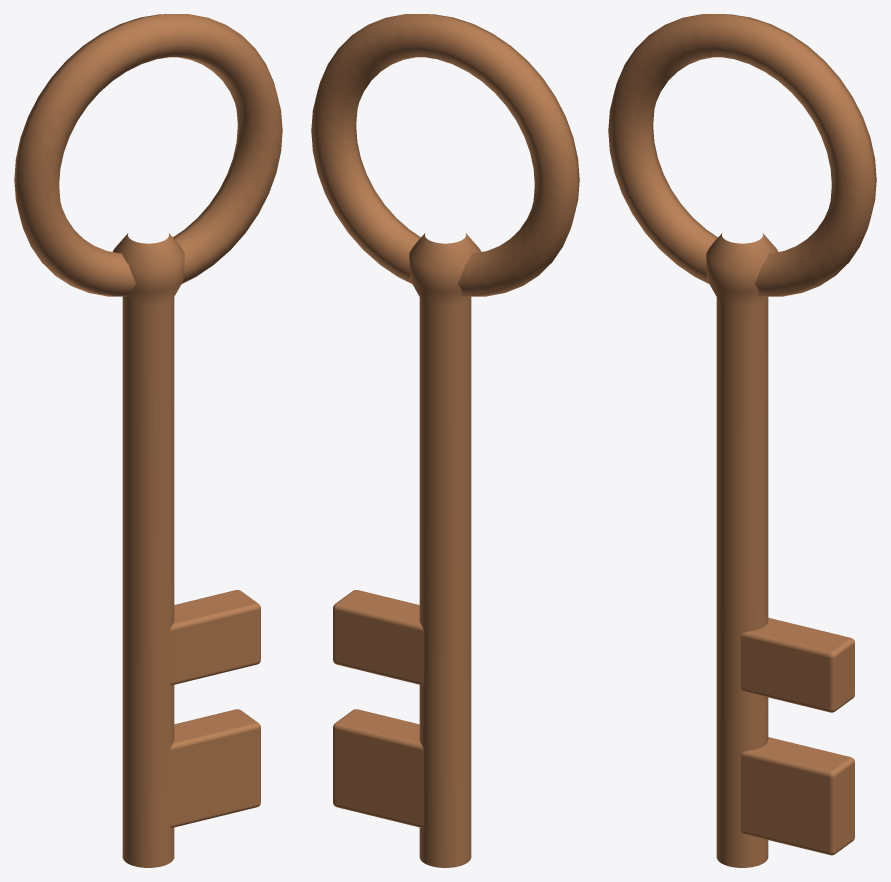
The model's file is props_p9__p9_copper_key.glb.
3 views of the same model, side by side, from view 1: azimuth 30°, elevation 25°; view 2: azimuth 150°, elevation 25°; view 3: azimuth 330°, elevation 25° (orthographic).
Visible parts, largest first — view 1: shaft, bow, bit (×2); view 2: shaft, bow, bit (×2); view 3: bow, shaft, bit (×2).
Part boxes in pixels (bbox=[...]): shaft: bbox=[112, 233, 184, 867]; bow: bbox=[14, 14, 282, 296]; bit (×2): bbox=[169, 590, 260, 827]; shaft: bbox=[409, 233, 481, 867]; bow: bbox=[311, 14, 579, 296]; bit (×2): bbox=[333, 590, 424, 827]; bow: bbox=[608, 14, 876, 296]; shaft: bbox=[706, 233, 778, 867]; bit (×2): bbox=[740, 617, 854, 855].
Bounding box in the file's own units: 0.0559 × 0.17 × 0.0133.
